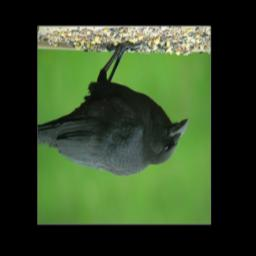Crow: (37, 37, 189, 175)
